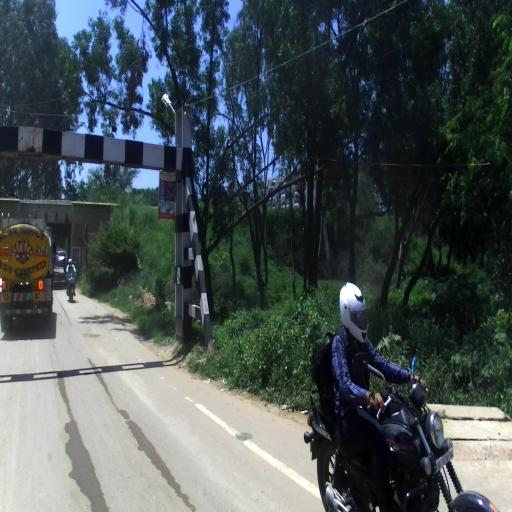street_light_0: (161, 93, 176, 114)
